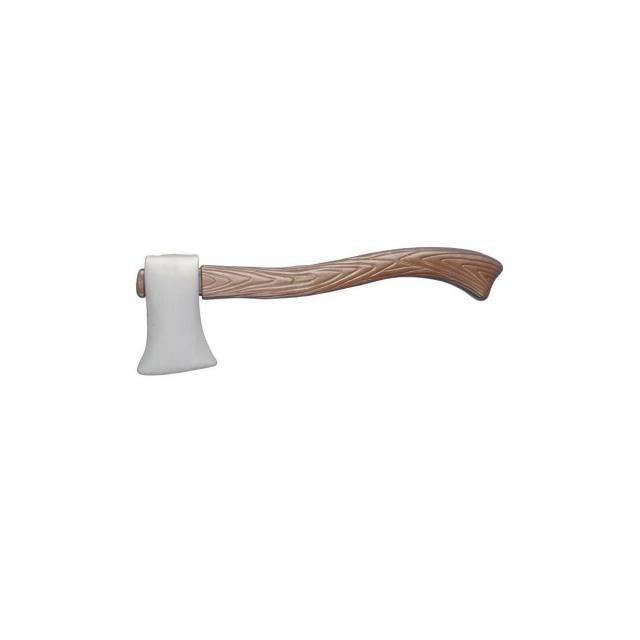Kapak: (117, 206, 514, 381)
